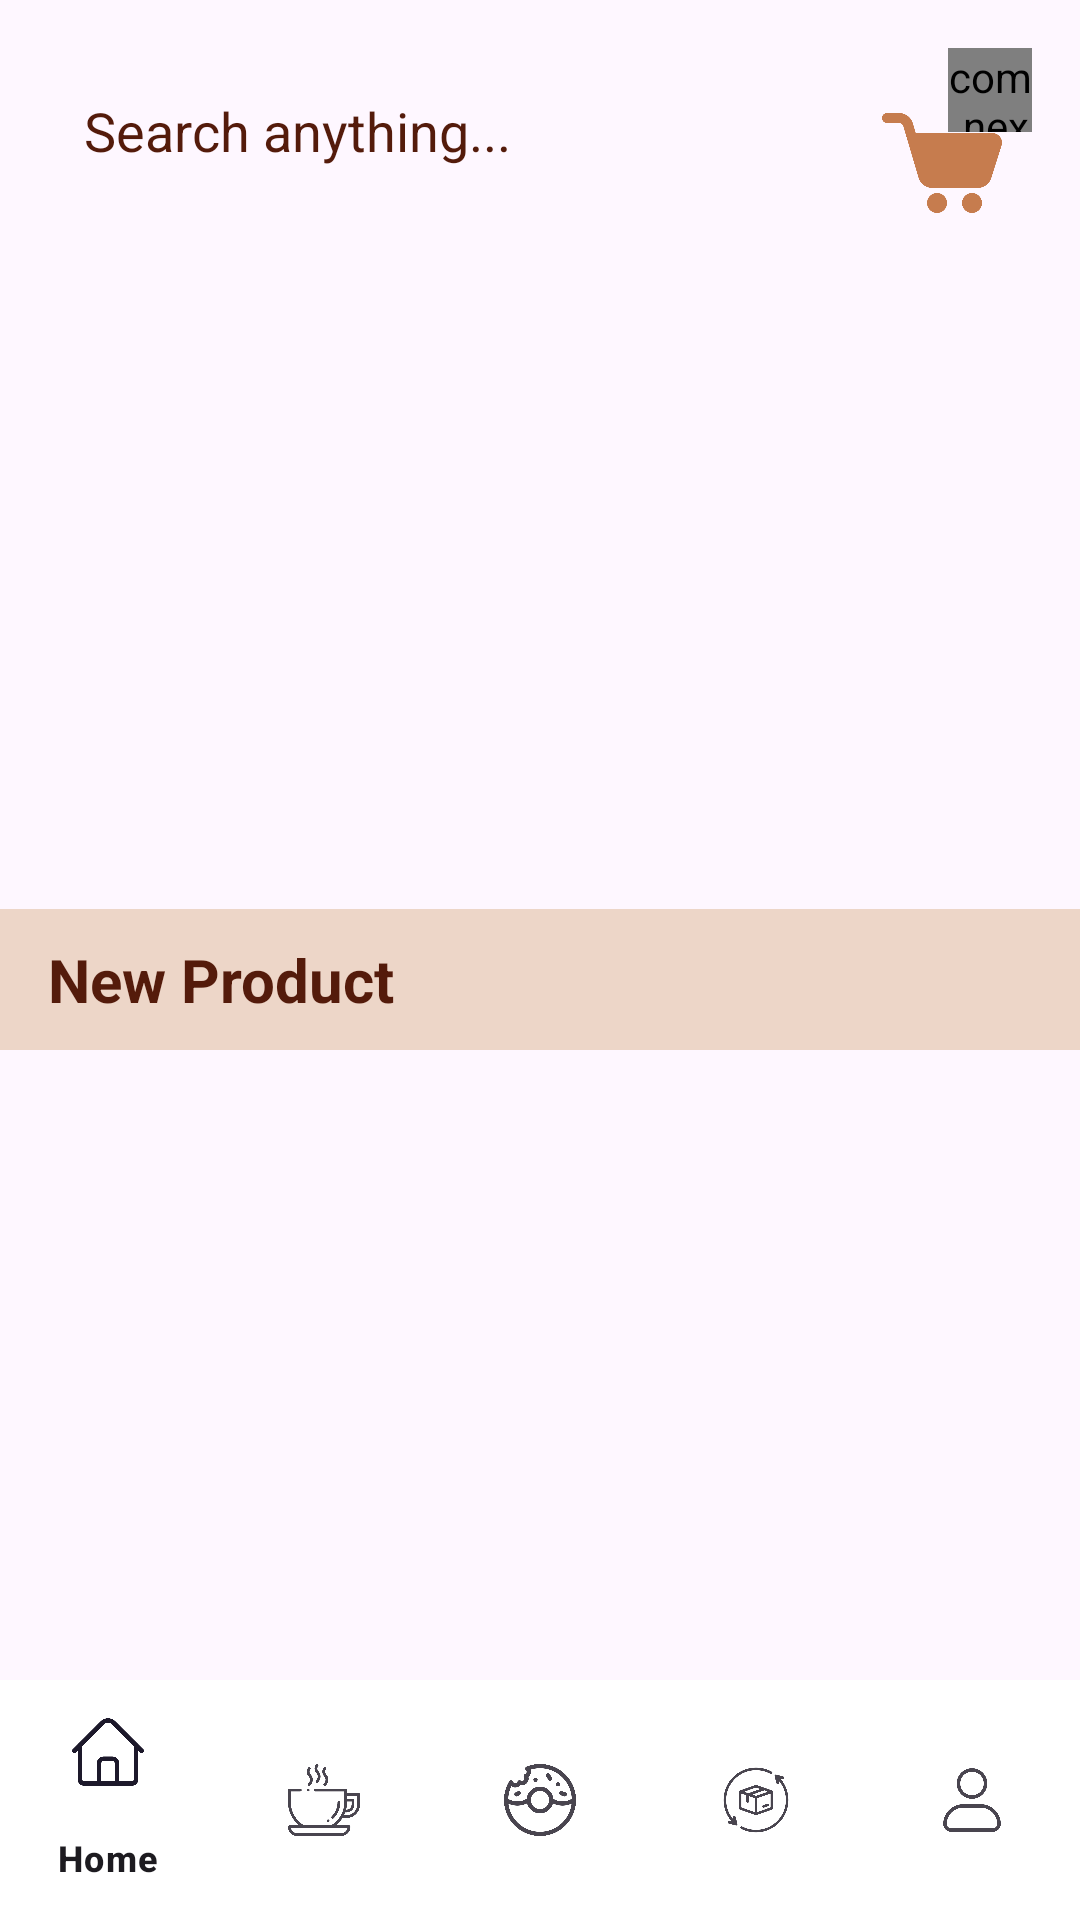

Named icons in this screenshot (1080px×1920px) and their bounding boxes, (x1, y1, x2, y2):
cart: (882, 113, 1002, 213)
